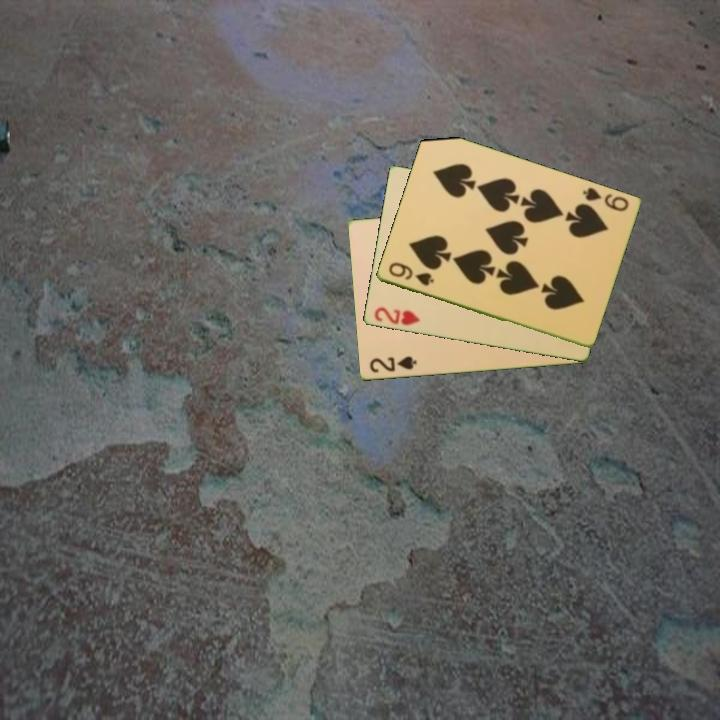2h: (370, 304, 423, 329)
2s: (366, 353, 419, 376)
9s: (579, 184, 631, 215), (385, 259, 436, 289)
